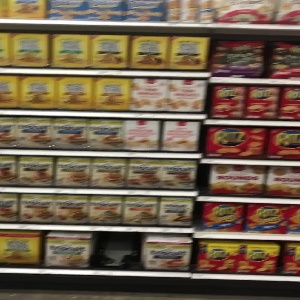void: (94, 230, 143, 272)
